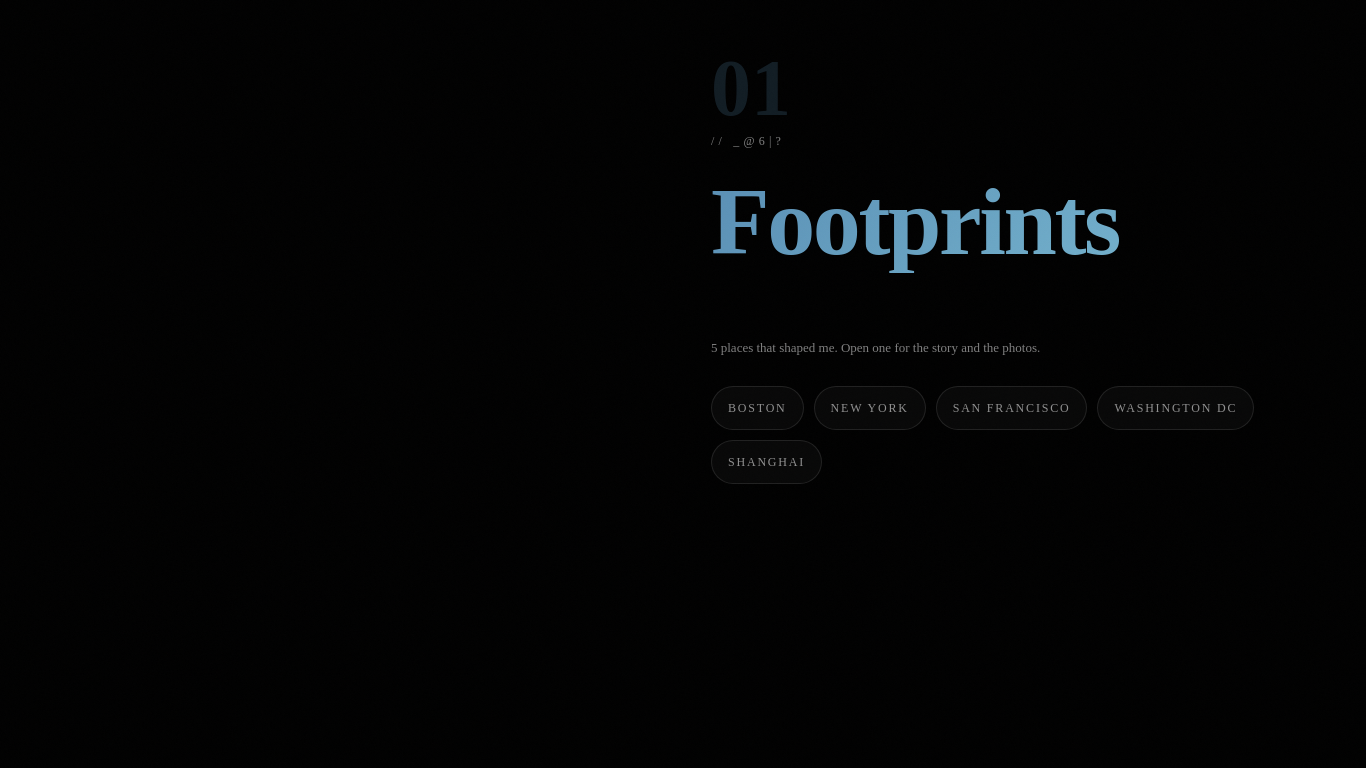
Test: Footprints › puts the panel outside the section, in a fixed overlay on <body>
The width and height of the screenshot is (1366, 768).
Click the button "Boston" at (757, 408), box 711,386 -> 804,430
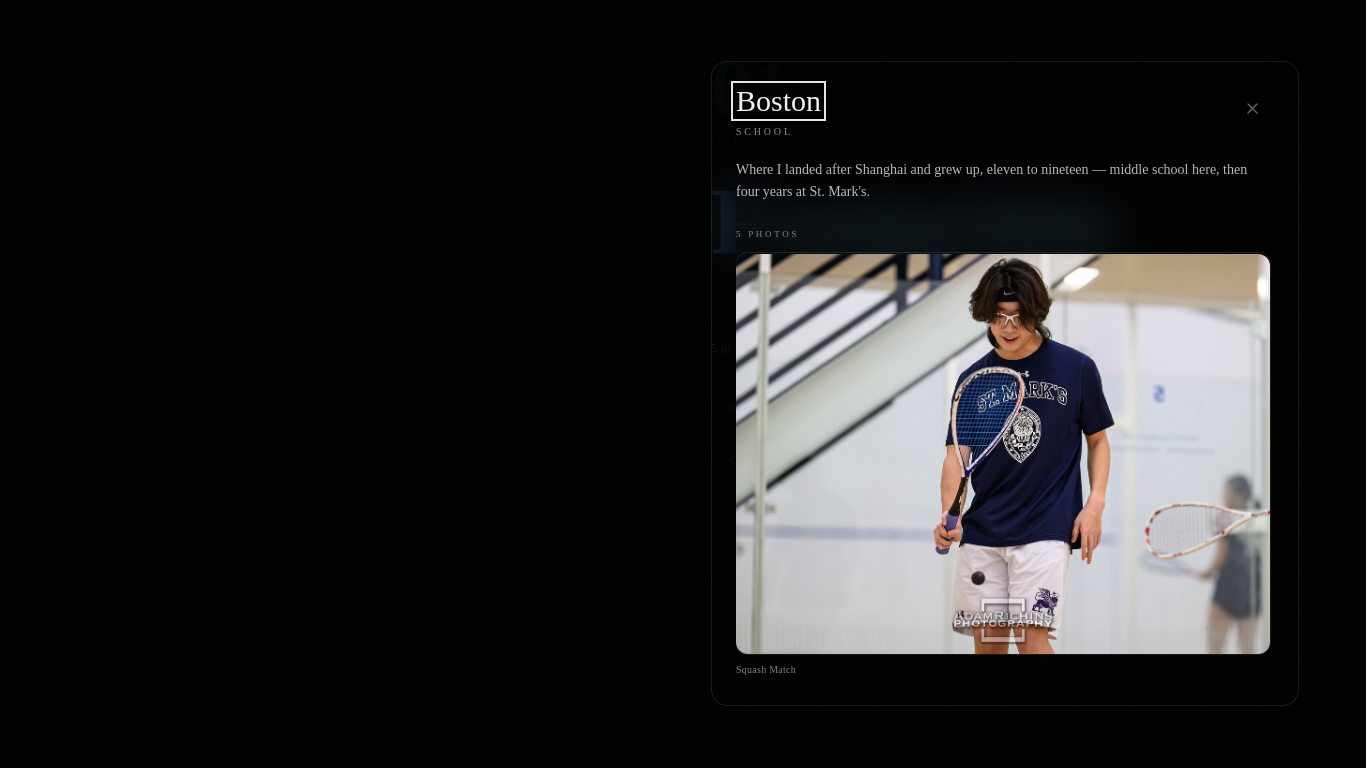
Check: the element with class "inset-0" that starts with "Boston" is shown, box 711,61 -> 1299,706
